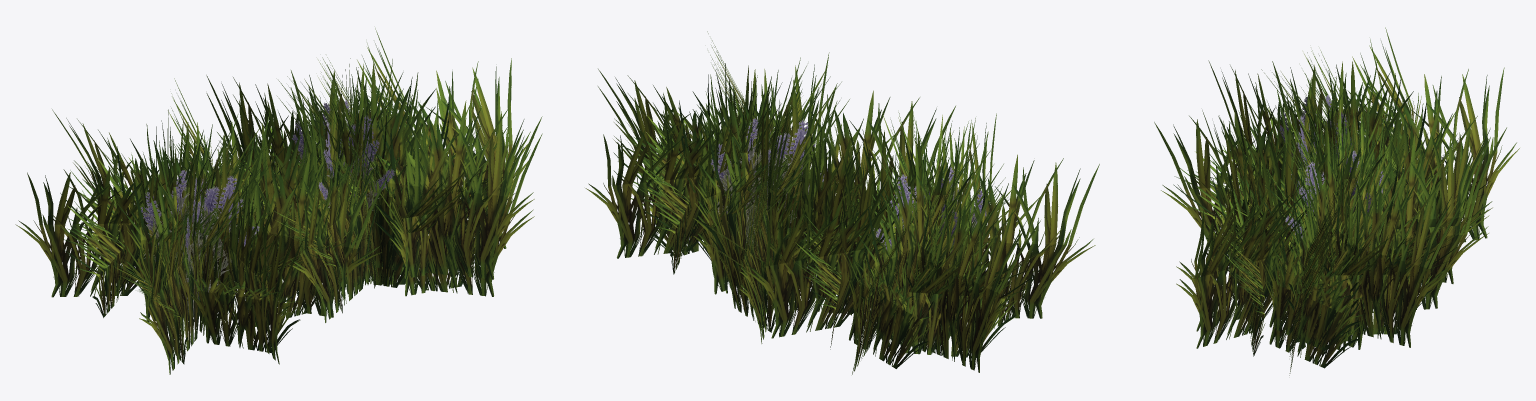
File: bush_one.glb
3 renders of one model, left to right at view 1: azimuth 30°, elevation 25°; view 2: azimuth 150°, elevation 25°; view 3: azimuth 270°, elevation 25°, orthographic. The views are drawn at different scales.
Visible parts, largest first — view 1: grass--bush-02.011, grass--bush-02.015_grass-stylized-02_0, grass--bush-02.010, grass--bush-02.017_grass-stylized-02_0, grass--bush-02.018_grass-stylized-02_0, grass--bush-02.012, grass--bush-02.016_grass-stylized-02_0, grass--bush-02.013_grass-stylized-02_0, lavender-flower-01.003, lavender-flower-01.005_lavender-flowers-diffuse_0; view 2: grass--bush-02.012, grass--bush-02.017_grass-stylized-02_0, grass--bush-02.011, grass--bush-02.016_grass-stylized-02_0, grass--bush-02.010, grass--bush-02.013_grass-stylized-02_0, grass--bush-02.015_grass-stylized-02_0, grass--bush-02.018_grass-stylized-02_0, lavender-flower-01.005_lavender-flowers-diffuse_0, lavender-flower-01.003; view 3: grass--bush-02.017_grass-stylized-02_0, grass--bush-02.015_grass-stylized-02_0, grass--bush-02.018_grass-stylized-02_0, grass--bush-02.010, grass--bush-02.012, grass--bush-02.016_grass-stylized-02_0, grass--bush-02.013_grass-stylized-02_0, grass--bush-02.011, lavender-flower-01.005_lavender-flowers-diffuse_0, lavender-flower-01.003.
Part boxes in pixels (box(x1,y1,x2,y2)): grass--bush-02.011: box(15, 112, 389, 335); grass--bush-02.015_grass-stylized-02_0: box(206, 57, 542, 279); grass--bush-02.010: box(52, 109, 304, 364); grass--bush-02.017_grass-stylized-02_0: box(270, 28, 432, 322); grass--bush-02.018_grass-stylized-02_0: box(206, 72, 542, 296); grass--bush-02.012: box(105, 78, 242, 374); grass--bush-02.016_grass-stylized-02_0: box(182, 58, 533, 282); grass--bush-02.013_grass-stylized-02_0: box(182, 76, 533, 299); lavender-flower-01.003: box(141, 170, 259, 321); lavender-flower-01.005_lavender-flowers-diffuse_0: box(292, 99, 394, 213); grass--bush-02.012: box(745, 120, 1099, 354); grass--bush-02.017_grass-stylized-02_0: box(585, 52, 955, 274); grass--bush-02.011: box(822, 112, 1040, 372); grass--bush-02.016_grass-stylized-02_0: box(598, 69, 900, 296); grass--bush-02.010: box(843, 113, 1011, 374); grass--bush-02.013_grass-stylized-02_0: box(598, 86, 898, 315); grass--bush-02.015_grass-stylized-02_0: box(686, 31, 804, 326); grass--bush-02.018_grass-stylized-02_0: box(686, 55, 804, 343); lavender-flower-01.005_lavender-flowers-diffuse_0: box(710, 118, 827, 249); lavender-flower-01.003: box(873, 166, 986, 270); grass--bush-02.017_grass-stylized-02_0: box(1202, 102, 1467, 347); grass--bush-02.015_grass-stylized-02_0: box(1176, 103, 1490, 339); grass--bush-02.018_grass-stylized-02_0: box(1176, 120, 1490, 356); grass--bush-02.010: box(1154, 59, 1519, 262); grass--bush-02.012: box(1208, 50, 1506, 283); grass--bush-02.016_grass-stylized-02_0: box(1264, 96, 1406, 356); grass--bush-02.013_grass-stylized-02_0: box(1264, 114, 1401, 375); grass--bush-02.011: box(1231, 27, 1423, 262); lavender-flower-01.005_lavender-flowers-diffuse_0: box(1285, 150, 1383, 257); lavender-flower-01.003: box(1279, 94, 1351, 194).
Bounding box in the file's own units: 3.69 × 1.72 × 2.55.
Materials: 2 (2 with a texture image).
